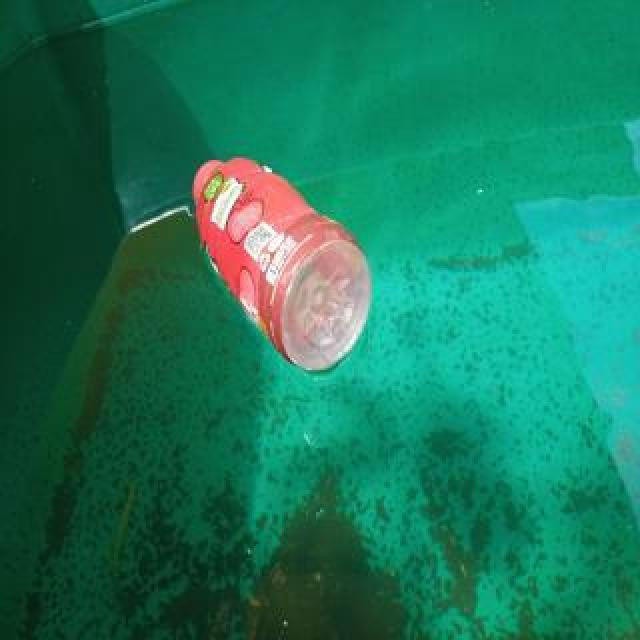bottle: (190, 152, 376, 378)
